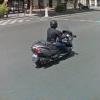Motorcycle: (24, 27, 91, 70)
